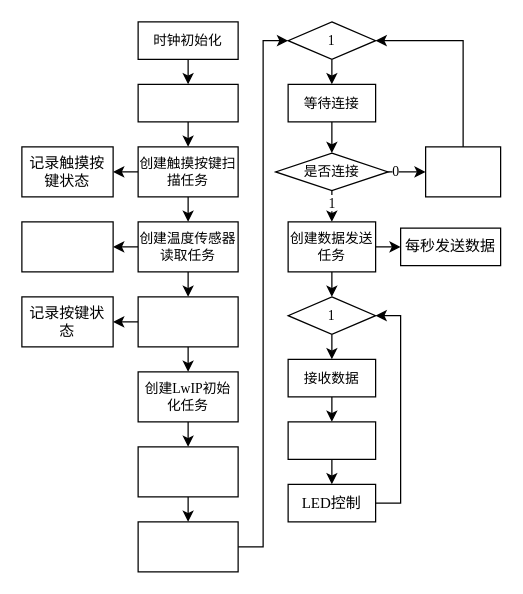
The diagram is 523 pixels wide and 594 high, and some of its shapes have lost their labels. Each missing label, with the centre of its shape:
socket创建、绑定、监听: (187,546)
创建LwIP业务任务: (187,471)
创建按键扫描任务: (187,321)
删除数据发送任务: (462,171)
外设初始化: (187,102)
字符串匹配: (331,440)
记录温度: (67,246)
